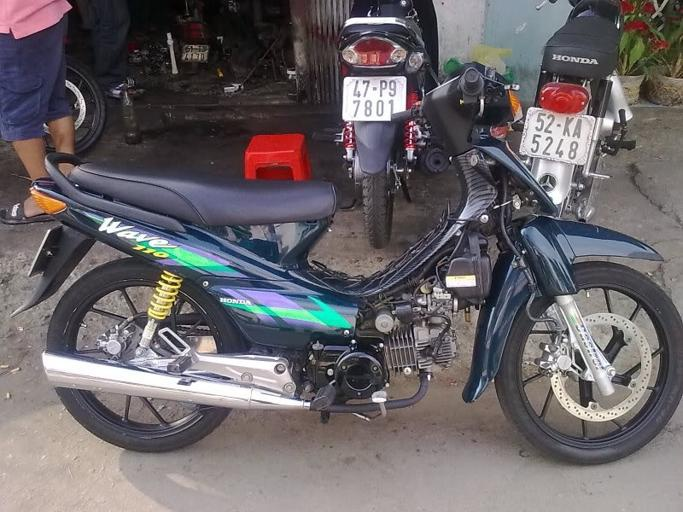non-vehicle: (9, 62, 682, 466), (331, 0, 448, 248), (519, 0, 635, 223), (36, 54, 106, 156), (174, 0, 230, 69)
